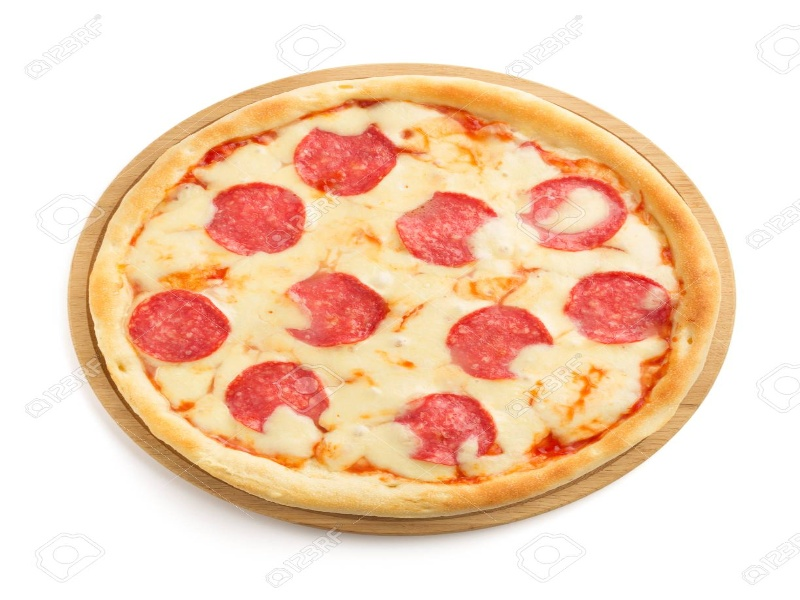pepperonis: (439, 302, 552, 381), (128, 287, 235, 365), (392, 393, 504, 465), (390, 191, 492, 267), (285, 270, 386, 346), (562, 272, 667, 344), (293, 125, 399, 196), (208, 181, 304, 255), (228, 362, 326, 424)
